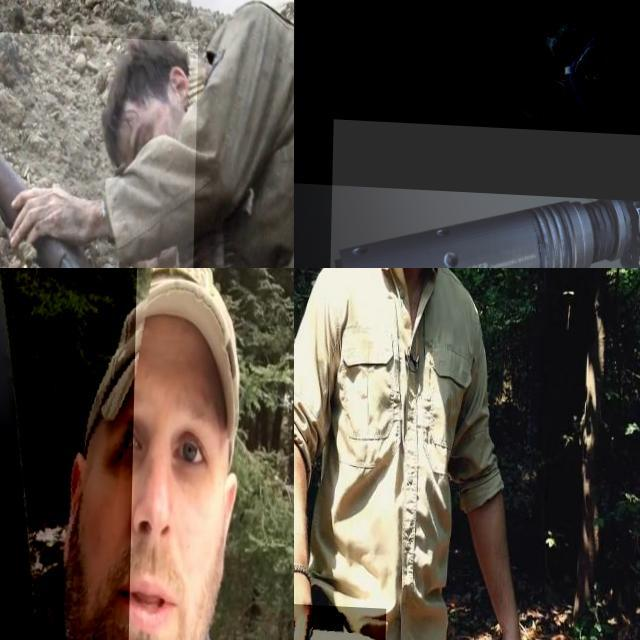-: (0, 268, 138, 640), (294, 599, 388, 640)
gun-knife-thesis - v11 Yolov5 augmented: (294, 0, 640, 197), (0, 26, 199, 268), (331, 118, 640, 268), (0, 0, 173, 69)
